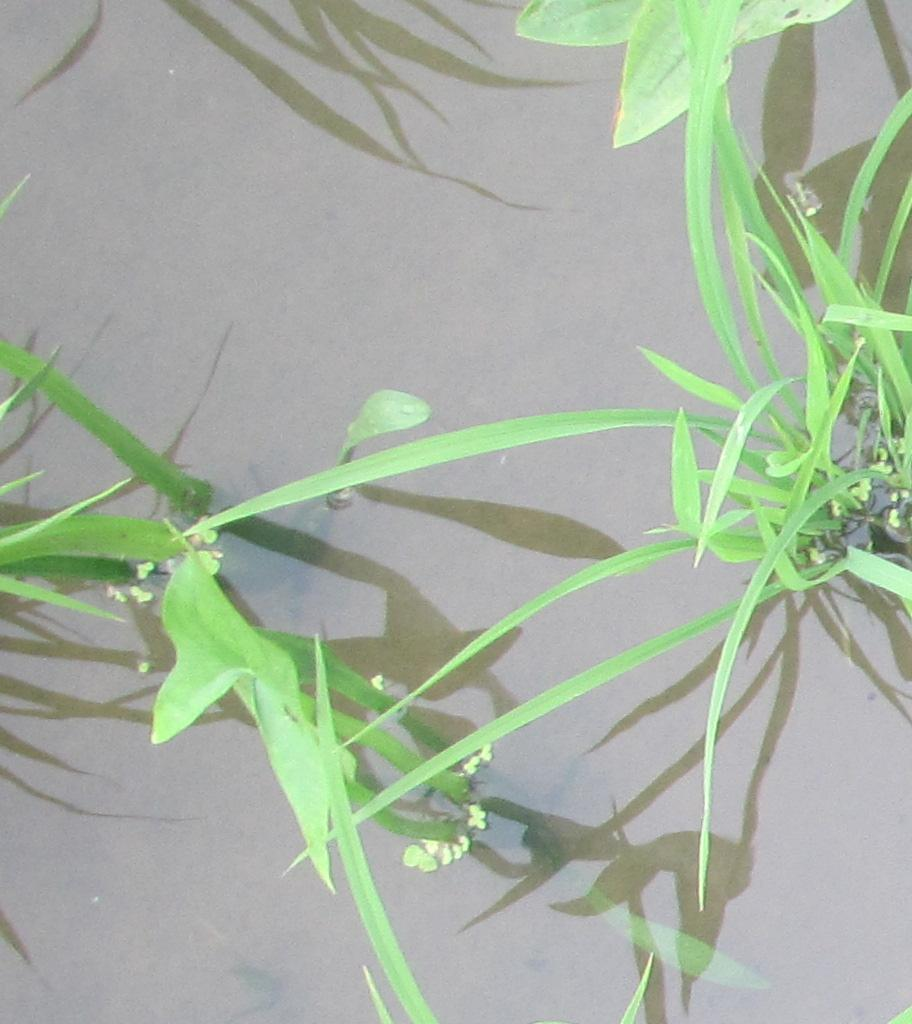Weed: (508, 2, 858, 132), (147, 546, 299, 738)
